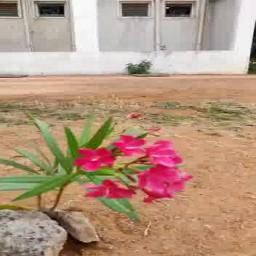OLEANDER: (0, 110, 198, 212)
